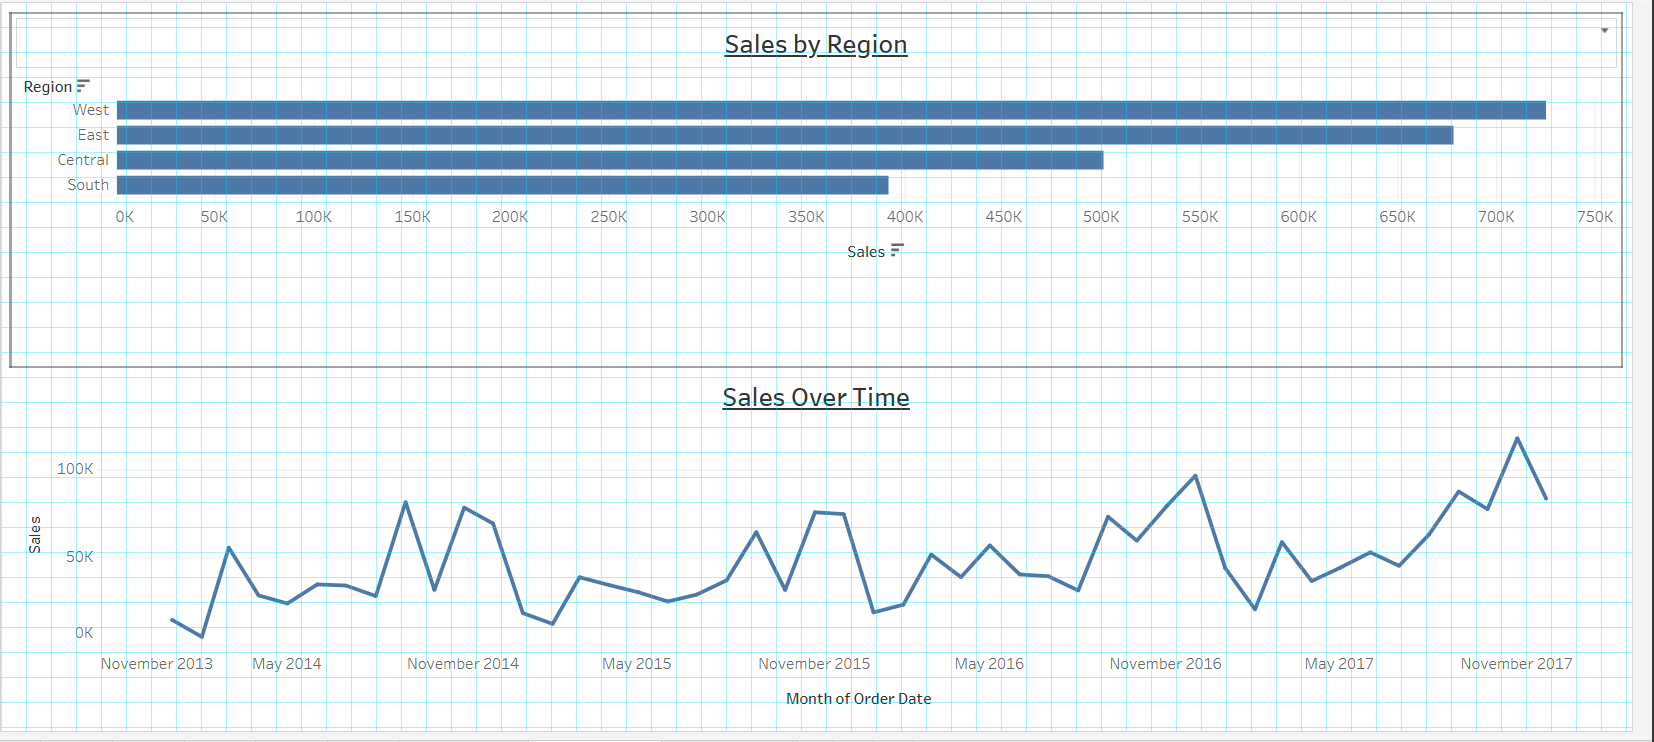

Layout of this report page (visuals, bound fields, positions):
{"tool":"tableau","page":{"name":"Dashboard 2","canvas":[1000,1000],"units":"permille","ordinal":1},"visuals":[{"type":"worksheet","title":"Sheet 5","mark":"Automatic","rows":["Region"],"cols":["Sales"],"box":[6.1,13.8,987.7,486.2]},{"type":"worksheet","title":"Sheet 4","mark":"Automatic","rows":["Sales"],"cols":["Order Date"],"box":[6.1,500,987.7,486.2]}]}

Visuals, with their boxes on the dashboard's canvas, which has no fixed pixel size, in thousandths of its width and height (x1, y1, x2, y2). These are canvas units, not pixel positions in the 1654x742 screenshot, which may show the page scaled, cropped or inside an application window:
"Sheet 5" worksheet: BBox(6, 14, 994, 500)
"Sheet 4" worksheet: BBox(6, 500, 994, 986)
